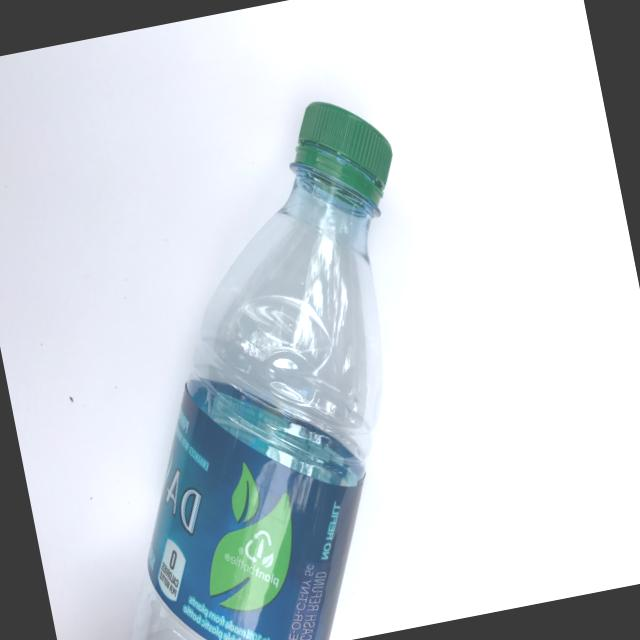Plastic: (19, 70, 511, 640)
